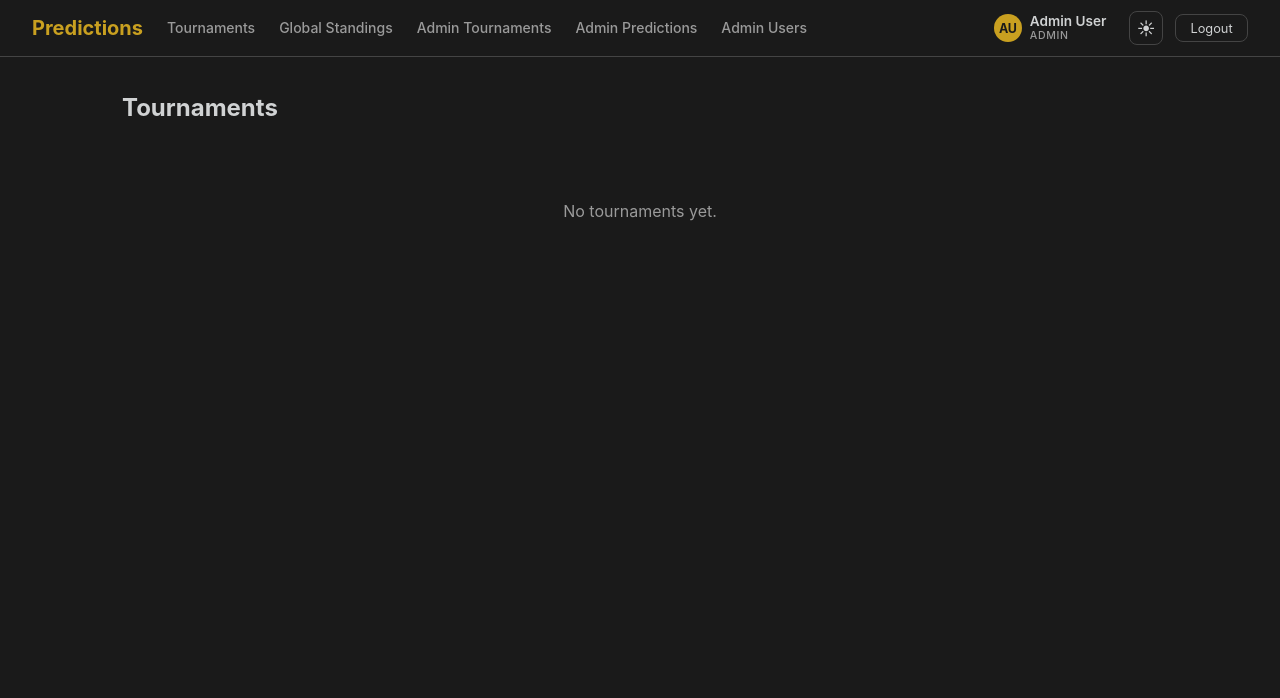
Test: Account drawer › submits valid password changes and clears the fields
The width and height of the screenshot is (1280, 698).
Click the button "AU Admin User Admin": click(1052, 28) [987, 9, 1117, 47]
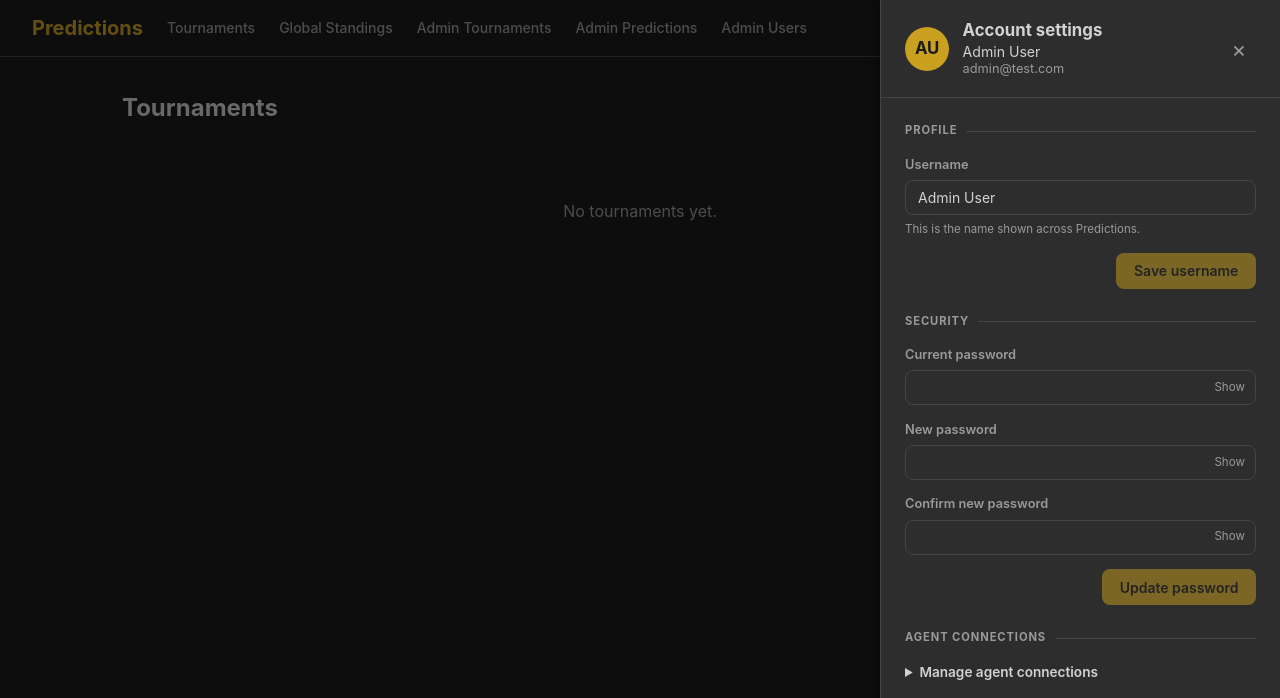
In the password field labelled "Current password": (1081, 388) [905, 370, 1256, 405], type "Admin123"
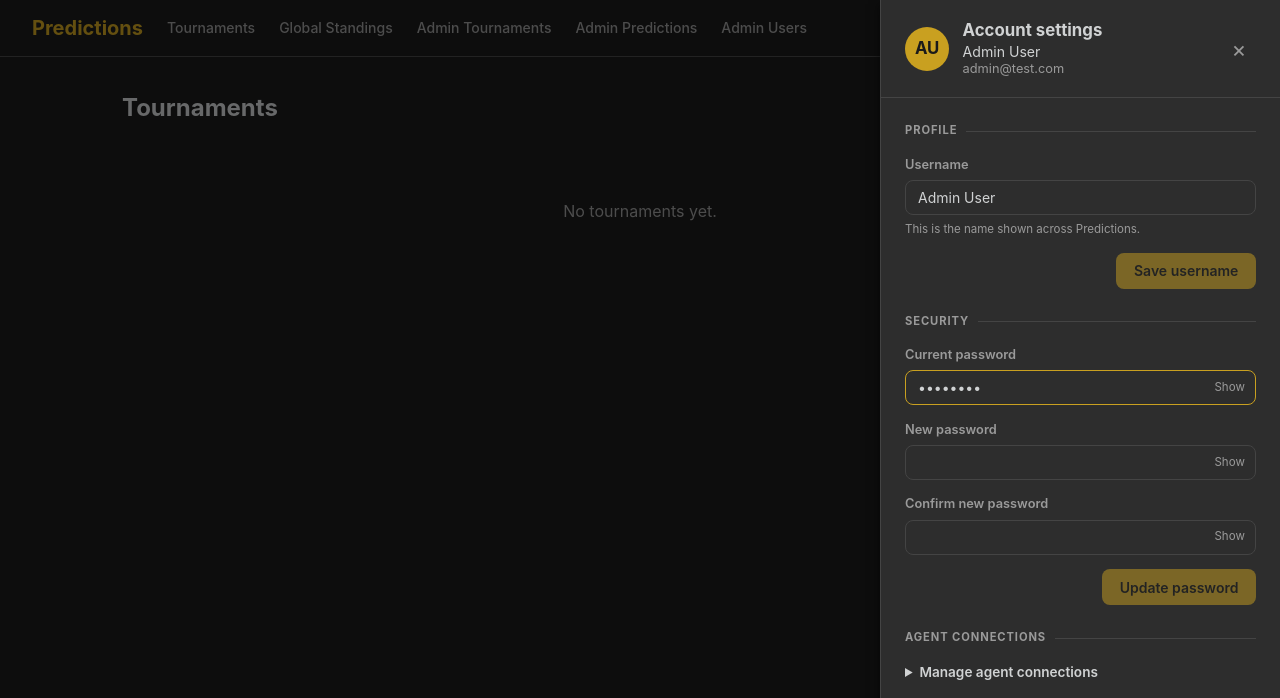
In the password field labelled "New password": (1081, 463) [905, 445, 1256, 480], type "Better123"
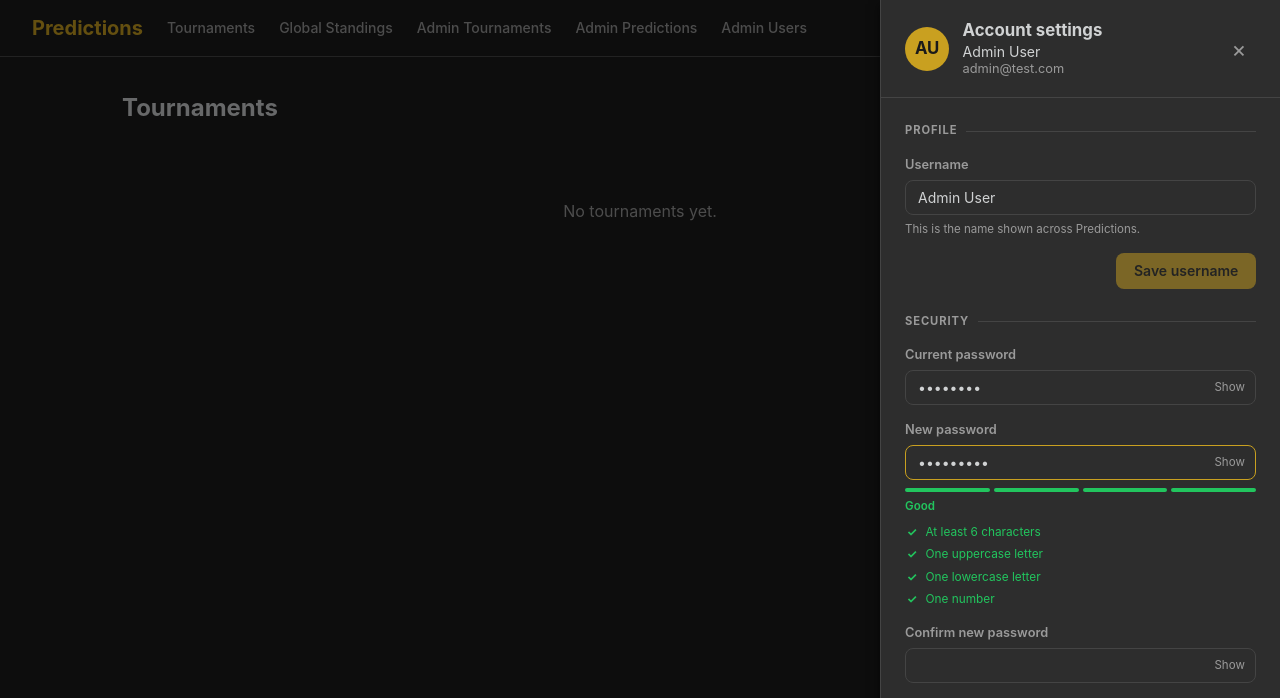
In the password field labelled "Confirm new password": (1081, 666) [905, 648, 1256, 683], type "Better123"
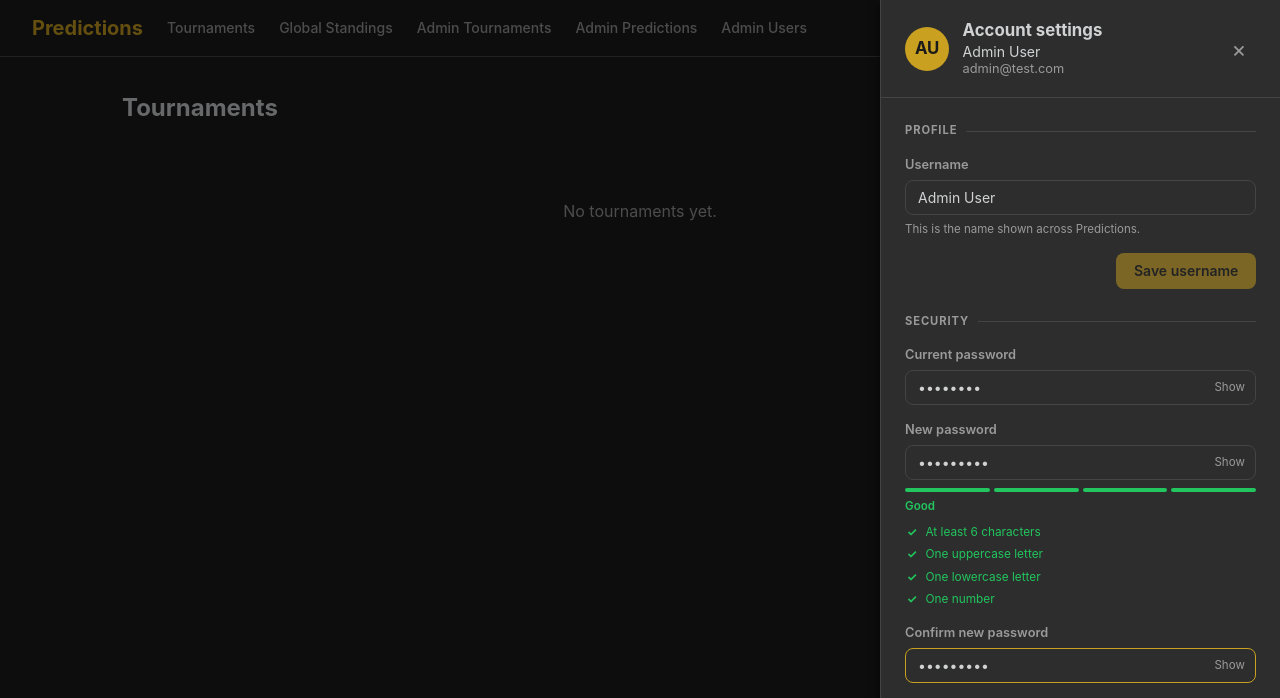
Scroll
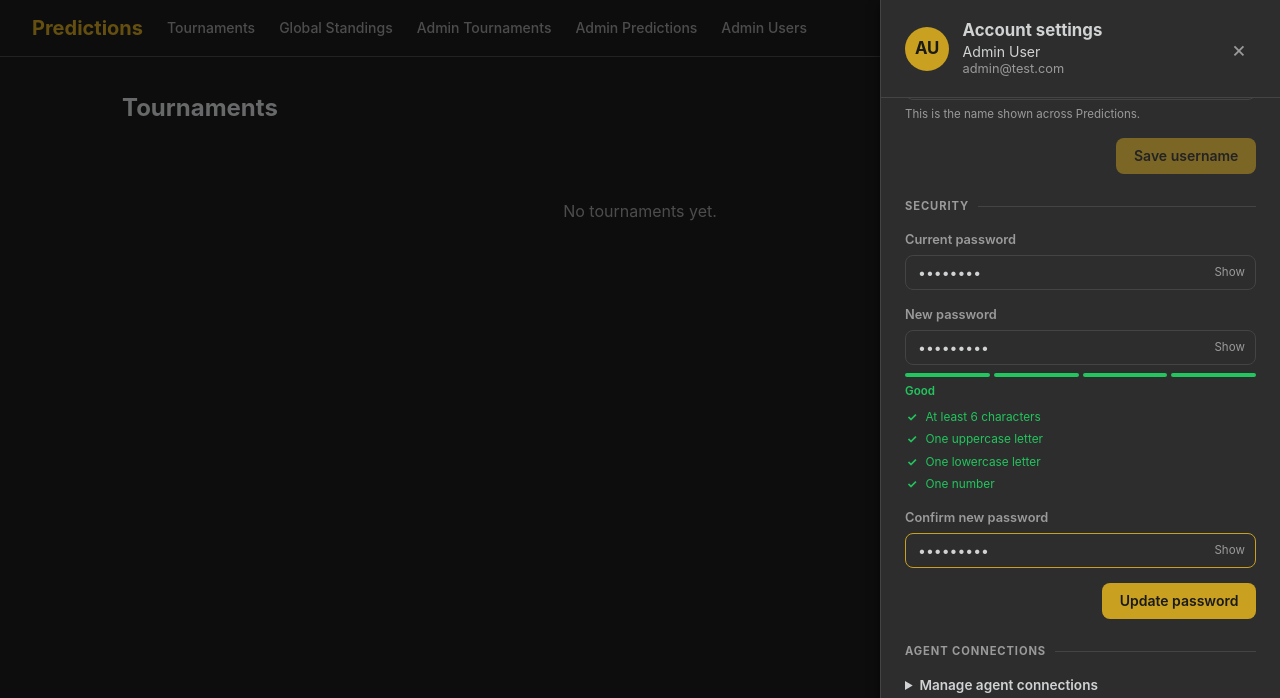
Click the button "Update password": click(1179, 601) [1102, 583, 1256, 619]
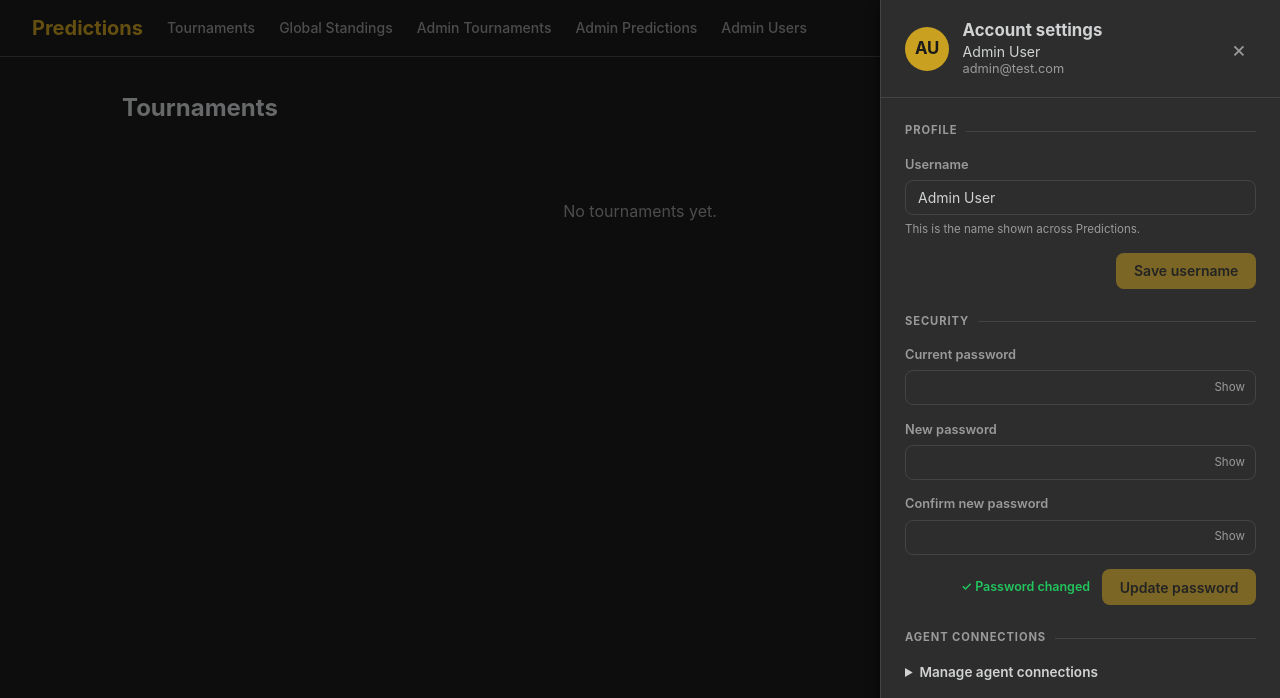
Result: the text "✓ Password changed" is shown at [961, 577, 1090, 597]
